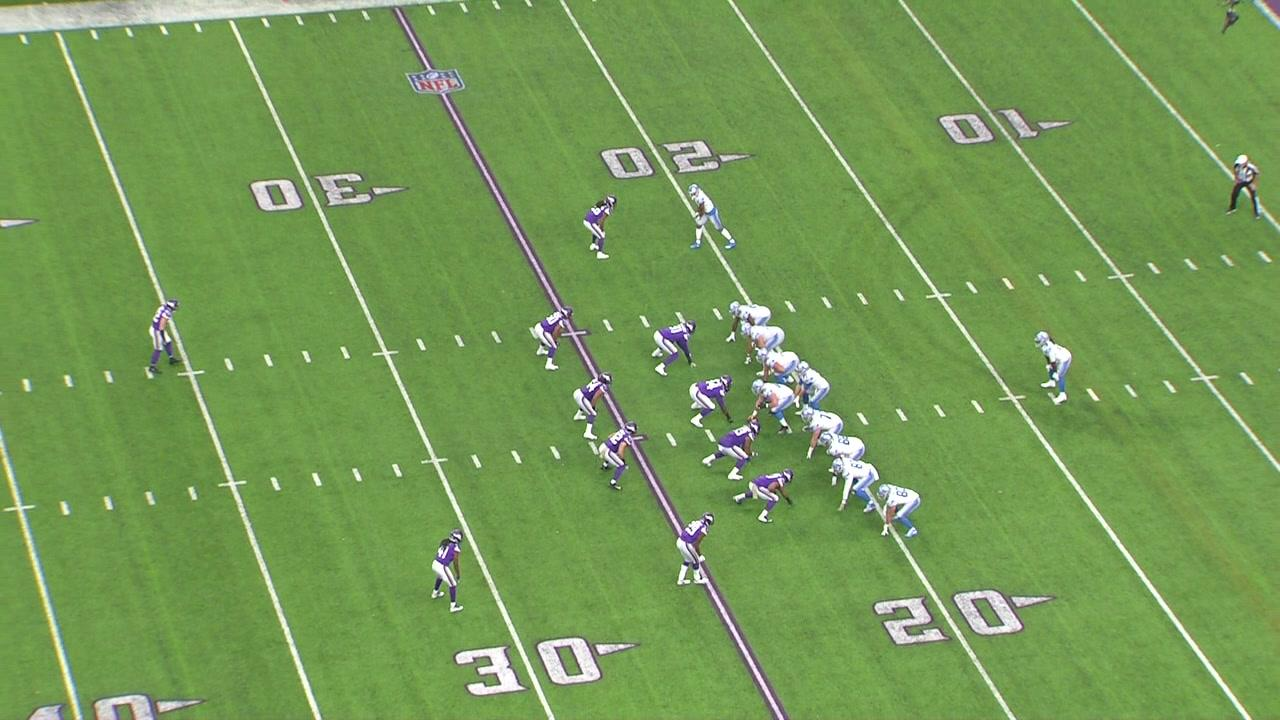player: (594, 418, 643, 498), (670, 509, 718, 589), (737, 468, 797, 531), (703, 418, 764, 479), (428, 525, 468, 618), (144, 292, 187, 376), (568, 368, 617, 439), (579, 190, 625, 261), (686, 180, 734, 248), (651, 312, 701, 373), (534, 306, 579, 372), (829, 458, 879, 513), (874, 481, 921, 539), (1037, 331, 1073, 406), (688, 371, 732, 432), (748, 382, 797, 433), (725, 300, 774, 345), (801, 405, 839, 462), (740, 319, 785, 365), (796, 361, 830, 406), (754, 348, 797, 378), (818, 433, 868, 458)
ref: (1225, 147, 1259, 219)
